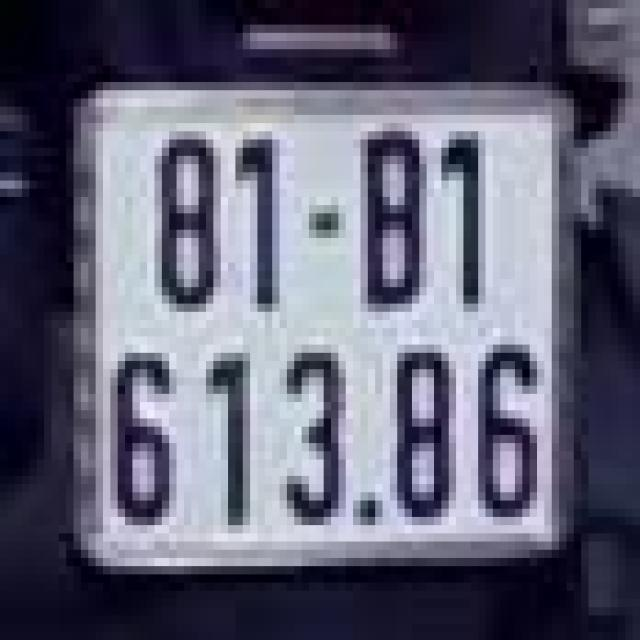1: (198, 340, 258, 538), (232, 131, 290, 320), (441, 123, 493, 312)
3: (284, 341, 349, 529)
6: (103, 344, 184, 542), (474, 336, 540, 534)
8: (147, 123, 228, 320), (386, 336, 460, 534)
B: (361, 115, 426, 320)
